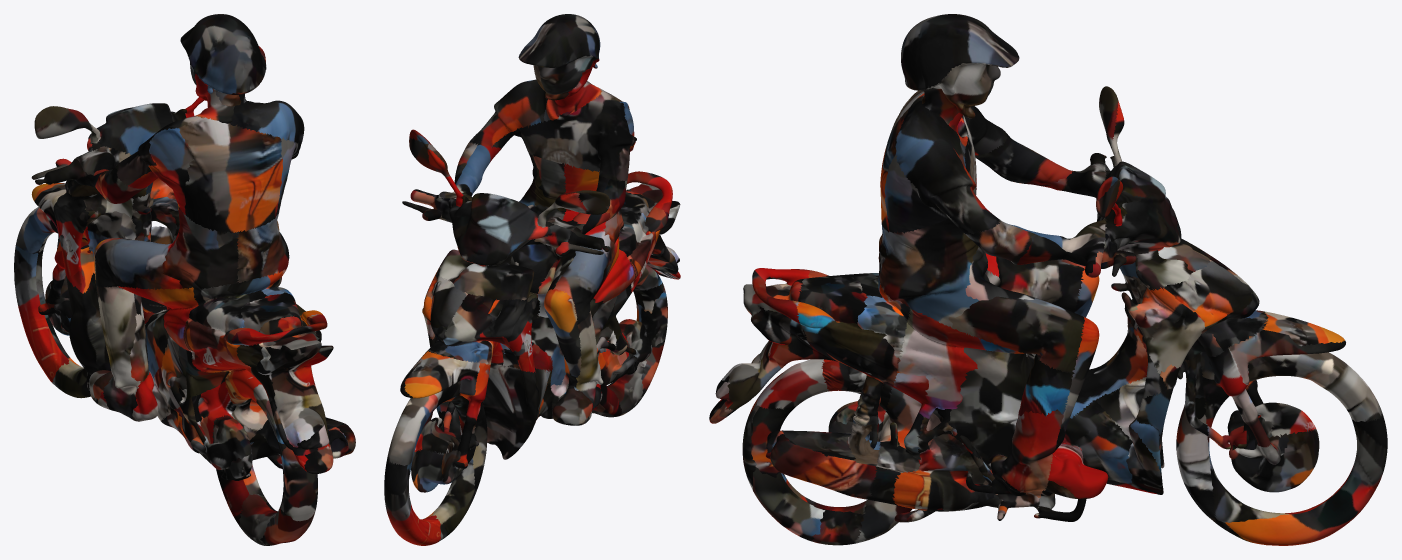
3 views of the same model, side by side, from view 1: azimuth 30°, elevation 25°; view 2: azimuth 150°, elevation 25°; view 3: azimuth 270°, elevation 25° (orthographic). The views are drawn at different scales.
Visible parts, largest first — view 1: tripo_node_4dddfe86-44e1-4c3d-ad05-cdb477eaf5f0; view 2: tripo_node_4dddfe86-44e1-4c3d-ad05-cdb477eaf5f0; view 3: tripo_node_4dddfe86-44e1-4c3d-ad05-cdb477eaf5f0.
Part boxes in pixels (box(x1,y1,x2,y2)): tripo_node_4dddfe86-44e1-4c3d-ad05-cdb477eaf5f0: box(14, 14, 355, 545); tripo_node_4dddfe86-44e1-4c3d-ad05-cdb477eaf5f0: box(384, 14, 680, 545); tripo_node_4dddfe86-44e1-4c3d-ad05-cdb477eaf5f0: box(709, 14, 1387, 545).
Size of the model in its own units: 43.08 by 85.55 by 100.
